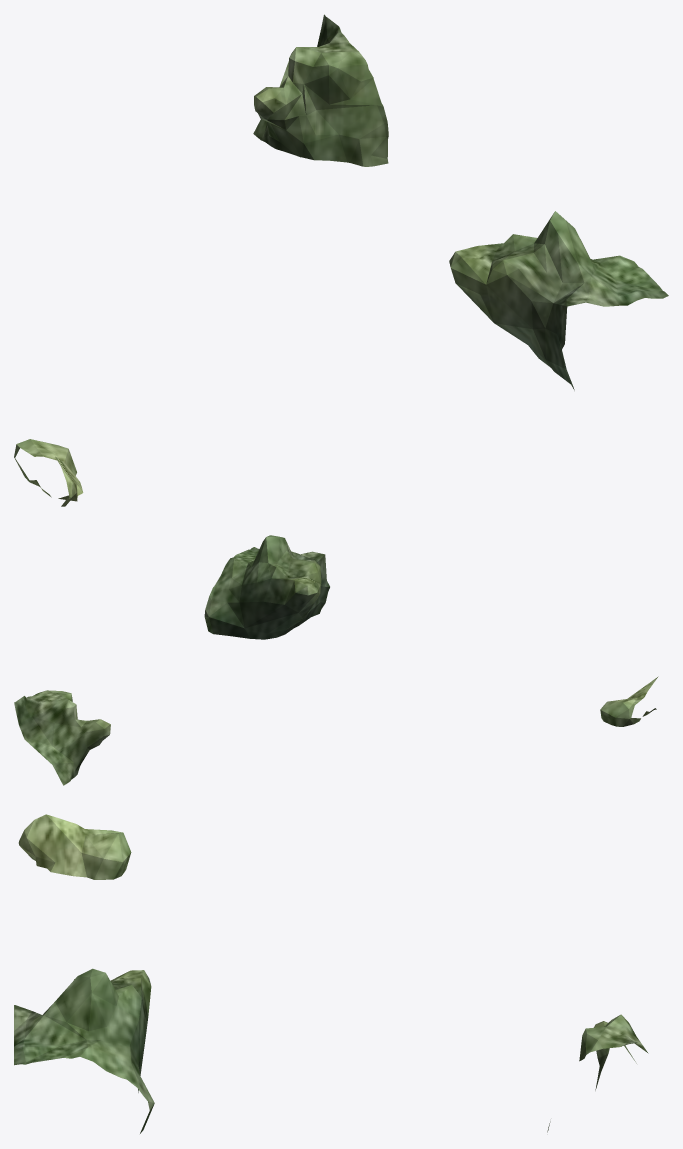
The picture shows the model from 3 angles, top to bottom: view 1: azimuth 30°, elevation 25°; view 2: azimuth 150°, elevation 25°; view 3: azimuth 270°, elevation 25°; orthographic projection. The views are drawn at different scales.
Bounding box in the file's own units: 5.9 × 1.31 × 5.9.
1 material, 1 textured.
